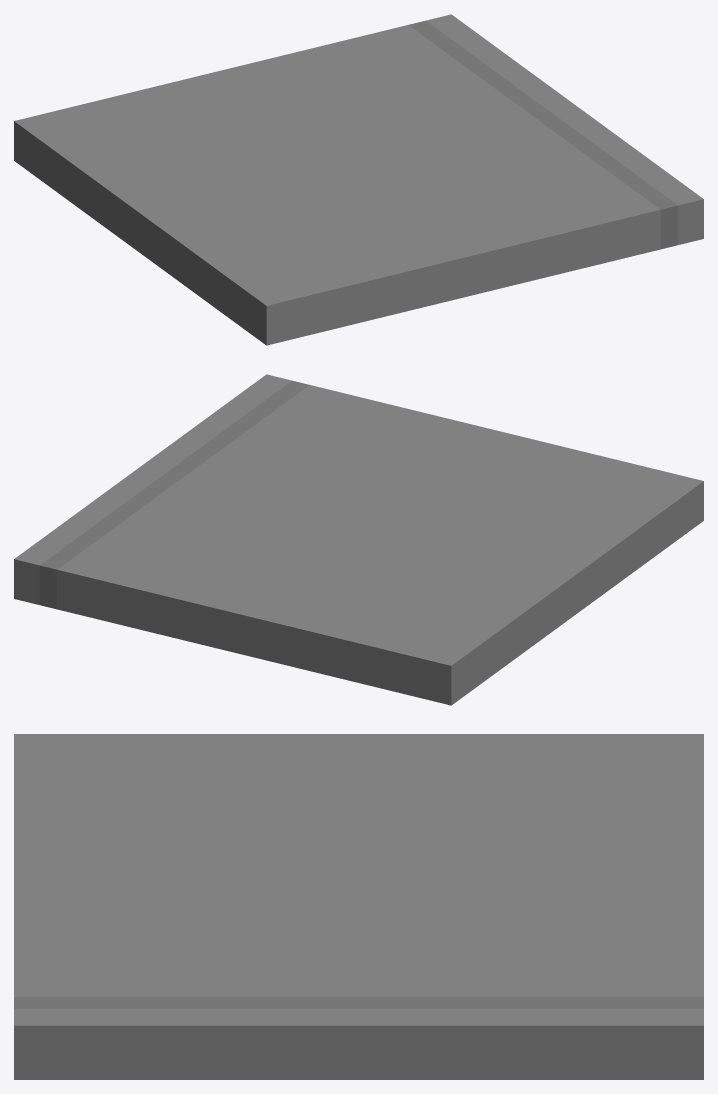
The model's file is MetalPanelFloor_01.fbx.
3 renders of one model, top to bottom at view 1: azimuth 30°, elevation 25°; view 2: azimuth 150°, elevation 25°; view 3: azimuth 270°, elevation 25°, orthographic. The views are drawn at different scales.
Visible parts, largest first — view 1: MetalPanel_Floor_01; view 2: MetalPanel_Floor_01; view 3: MetalPanel_Floor_01.
Boxes of the visible parts, x1,y1,x2,y2 form: MetalPanel_Floor_01: (14, 14, 703, 345); MetalPanel_Floor_01: (14, 374, 703, 705); MetalPanel_Floor_01: (14, 734, 703, 1079).
Bounding box in the file's own units: 10960 × 951 × 10960.
